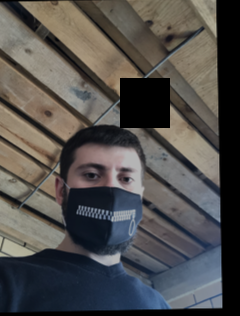with_mask: (65, 154, 142, 256)
